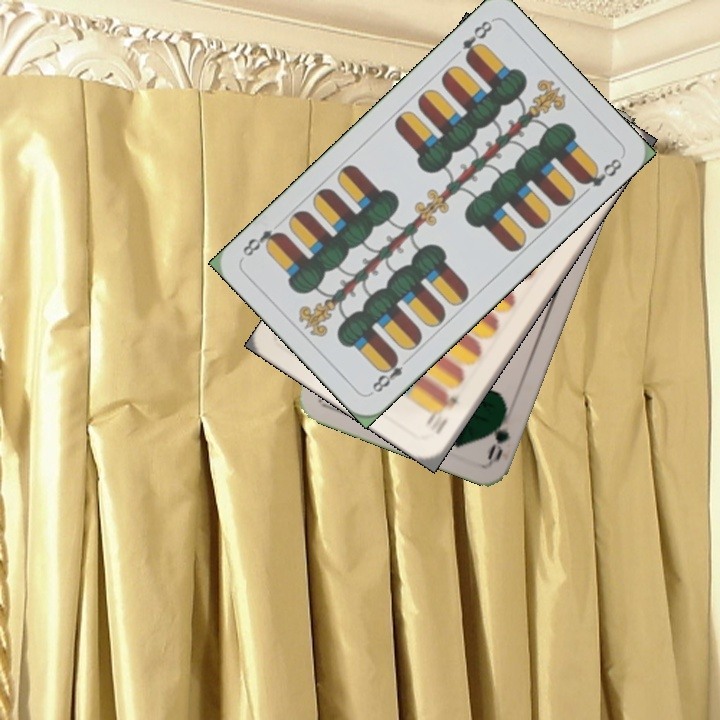E10: (424, 392, 461, 437)
E8: (366, 351, 414, 397), (458, 16, 495, 65)
GO: (483, 403, 513, 464)
